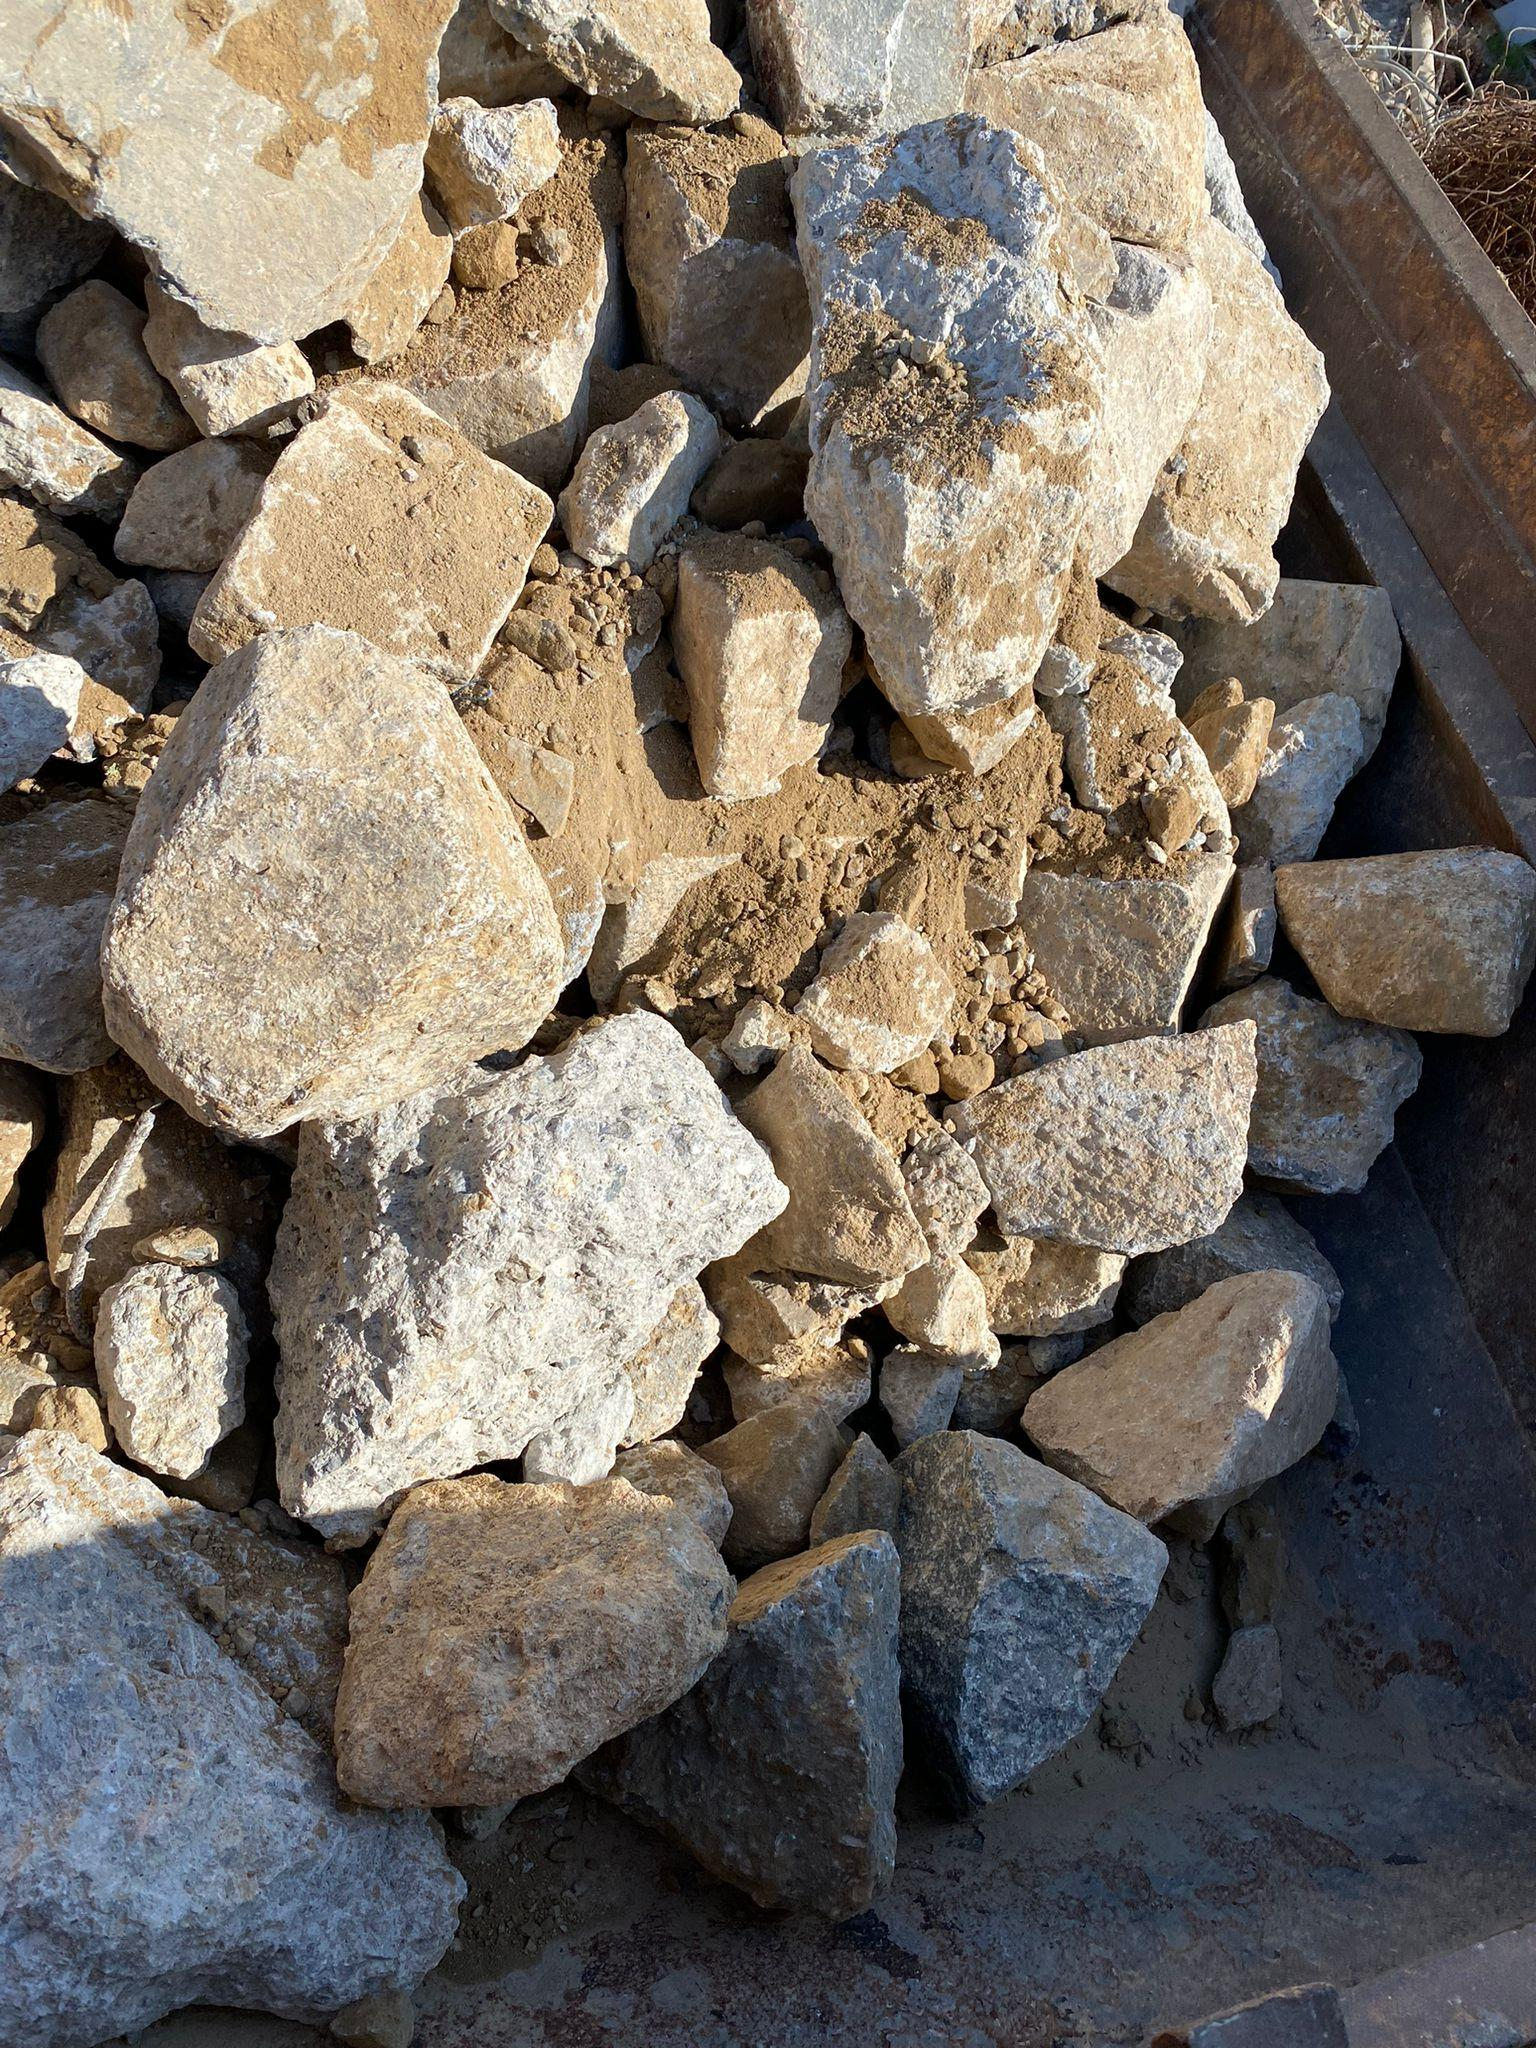stone: (1, 1, 1531, 2043), (0, 1425, 469, 2045), (265, 1004, 791, 1545), (786, 108, 1213, 773), (97, 620, 569, 1145), (1, 0, 460, 351), (329, 1456, 738, 1810), (185, 377, 556, 687), (945, 1018, 1260, 1255)
